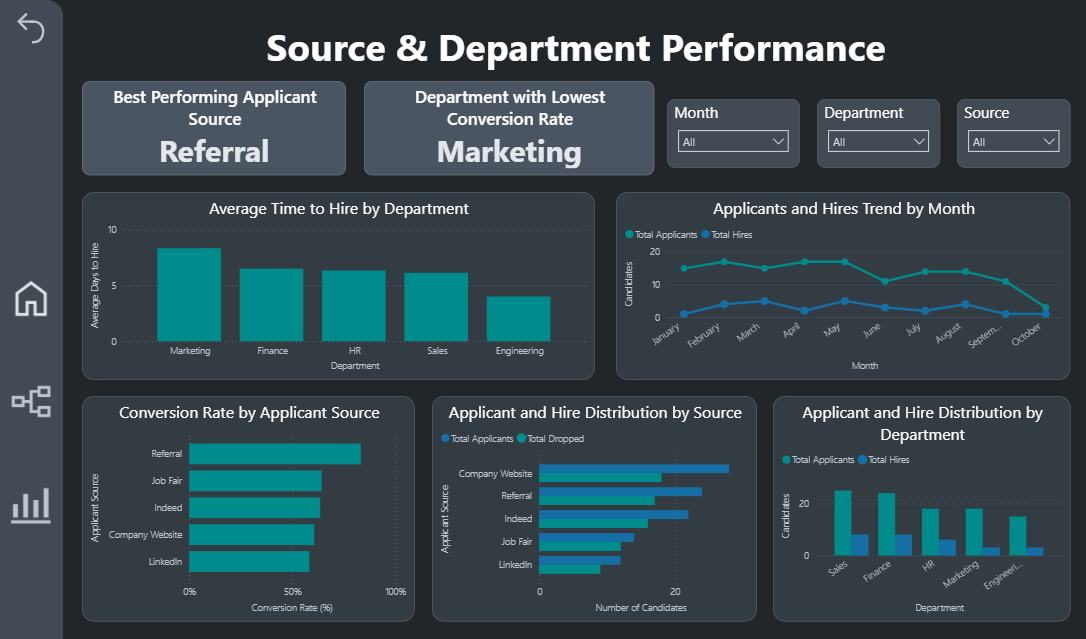

The dashboard page shown, as its layout file describes it:
{"tool":"powerbi","page":{"name":"Source & Department Performance","canvas":[1360,800],"ordinal":2},"visuals":[{"type":"shape","box":[0,0,80.3,800],"z":0,"group":"g1"},{"type":"slicer","title":"Month","fields":{"Values":["recruitment_funnel_data.Month Name"]},"box":[835.6,124.1,165.8,86.1],"z":0},{"type":"slicer","title":"Department","fields":{"Values":["recruitment_funnel_data.Department"]},"box":[1022.9,124.1,154.4,86.1],"z":1000},{"type":"slicer","title":"Source","fields":{"Values":["recruitment_funnel_data.Source"]},"box":[1197.6,124.1,141.8,86.1],"z":2000},{"type":"actionButton","box":[0,598.8,80,67.5],"z":2000,"group":"g1"},{"type":"actionButton","box":[0,468.8,80,66.2],"z":3000,"group":"g1"},{"type":"clusteredBarChart","title":"Applicant and Hire Distribution by Source","fields":{"Category":["recruitment_funnel_data.Source"],"Y":["Measure Table.Total Applicants","Measure Table.Total Dropped"]},"box":[540.7,495,406.3,282.3],"z":3000},{"type":"actionButton","box":[0,10.5,80.3,50],"z":4000,"group":"g1"},{"type":"clusteredBarChart","title":"Conversion Rate by Applicant Source","fields":{"Y":["Measure Table.Stage Conversion Rate"],"Category":["recruitment_funnel_data.Source"]},"box":[104,495,416.5,282.3],"z":4000},{"type":"clusteredColumnChart","title":"Average Time to Hire by Department","fields":{"Category":["recruitment_funnel_data.Department"],"Y":["Measure Table.Avg Time to Hire"]},"box":[104,240.6,640.5,235.4],"z":5000},{"type":"lineChart","title":"Applicants and Hires Trend by Month","fields":{"Y":["Measure Table.Total Applicants","Measure Table.Total Hires"],"Category":["recruitment_funnel_data.Date Hierarchy.Month Name"]},"box":[771,240.6,568.4,235.4],"z":6000},{"type":"card","title":"Best Performing Applicant Source","fields":{"Values":["Min(recruitment_funnel_data.Source)"]},"box":[104,101.4,330.4,117.7],"z":7000},{"type":"card","title":"Department with Lowest Conversion Rate","fields":{"Values":["Min(recruitment_funnel_data.Department)"]},"box":[455.7,100.9,362.9,118.3],"z":8000},{"type":"clusteredColumnChart","title":"Applicant and Hire Distribution by Department","fields":{"Category":["recruitment_funnel_data.Department"],"Y":["Measure Table.Total Applicants","Measure Table.Total Hires"]},"box":[967.2,495,372.2,282.3],"z":9000},{"type":"shape","box":[104,17.8,1235.4,79.7],"z":10000},{"type":"actionButton","box":[0,340,80,66.2],"z":11001,"group":"g1"},{"type":"group","id":"g1","title":"Group 1","box":[0,0,80.3,800],"z":11002}]}

Visuals, with their boxes on the page's 1360x800 design canvas (x1, y1, x2, y2). These are canvas units, not pixel positions in the 1086x639 screenshot, which may show the page scaled, cropped or inside an application window:
shape: <region>0, 0, 80, 800</region>
"Month" slicer: <region>836, 124, 1001, 210</region>
"Department" slicer: <region>1023, 124, 1177, 210</region>
"Source" slicer: <region>1198, 124, 1339, 210</region>
actionButton: <region>0, 599, 80, 666</region>
actionButton: <region>0, 469, 80, 535</region>
"Applicant and Hire Distribution by Source" clusteredBarChart: <region>541, 495, 947, 777</region>
actionButton: <region>0, 10, 80, 60</region>
"Conversion Rate by Applicant Source" clusteredBarChart: <region>104, 495, 520, 777</region>
"Average Time to Hire by Department" clusteredColumnChart: <region>104, 241, 744, 476</region>
"Applicants and Hires Trend by Month" lineChart: <region>771, 241, 1339, 476</region>
"Best Performing Applicant Source" card: <region>104, 101, 434, 219</region>
"Department with Lowest Conversion Rate" card: <region>456, 101, 819, 219</region>
"Applicant and Hire Distribution by Department" clusteredColumnChart: <region>967, 495, 1339, 777</region>
shape: <region>104, 18, 1339, 98</region>
actionButton: <region>0, 340, 80, 406</region>
"Group 1" group: <region>0, 0, 80, 800</region>
